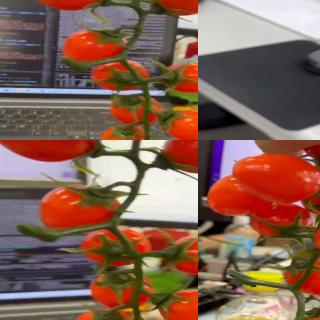tomato: (235, 151, 320, 201), (38, 186, 122, 233), (207, 174, 274, 217), (79, 226, 151, 266), (91, 270, 156, 309), (247, 203, 312, 241), (64, 29, 129, 66), (0, 140, 100, 164), (91, 60, 155, 92), (110, 94, 162, 126), (281, 257, 320, 297), (162, 233, 198, 275), (160, 140, 198, 174), (158, 63, 198, 94), (160, 289, 198, 320), (163, 109, 198, 140), (148, 0, 198, 18), (21, 0, 108, 10), (100, 123, 150, 140), (302, 178, 320, 215), (71, 310, 136, 320)
